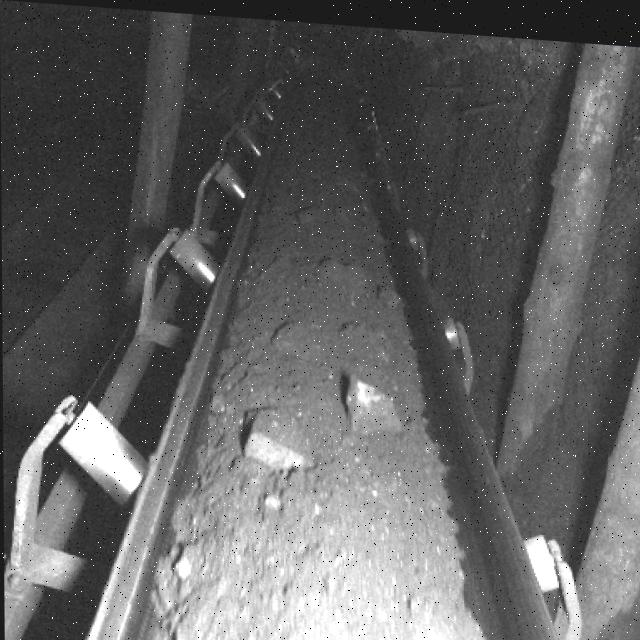large_sized_coal: (244, 408, 311, 466), (340, 371, 402, 429), (313, 253, 370, 301), (274, 318, 327, 364)
